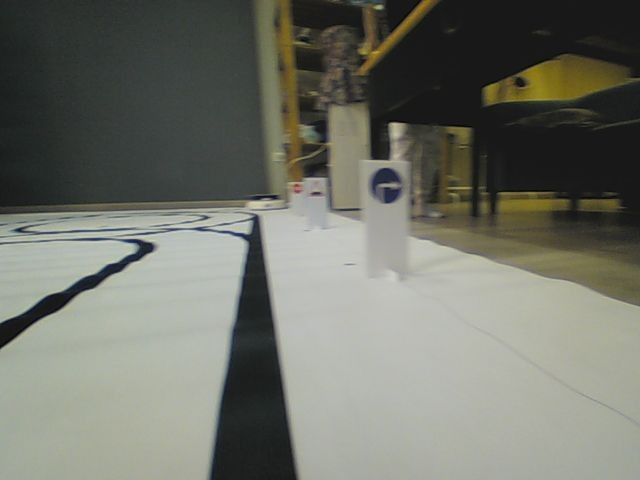Right: (369, 166, 403, 206)
